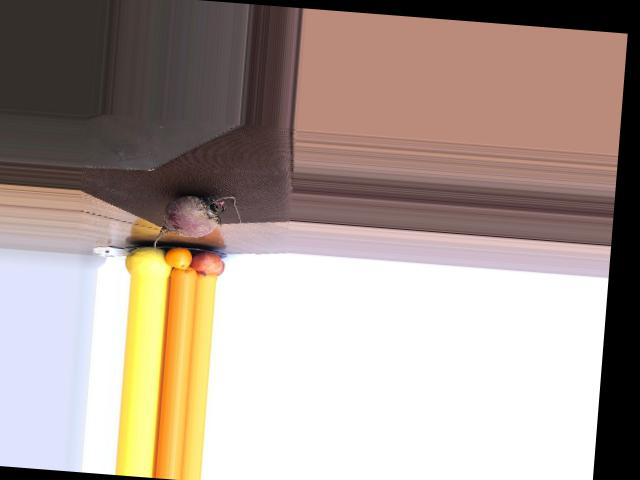beet: (152, 190, 242, 260)
